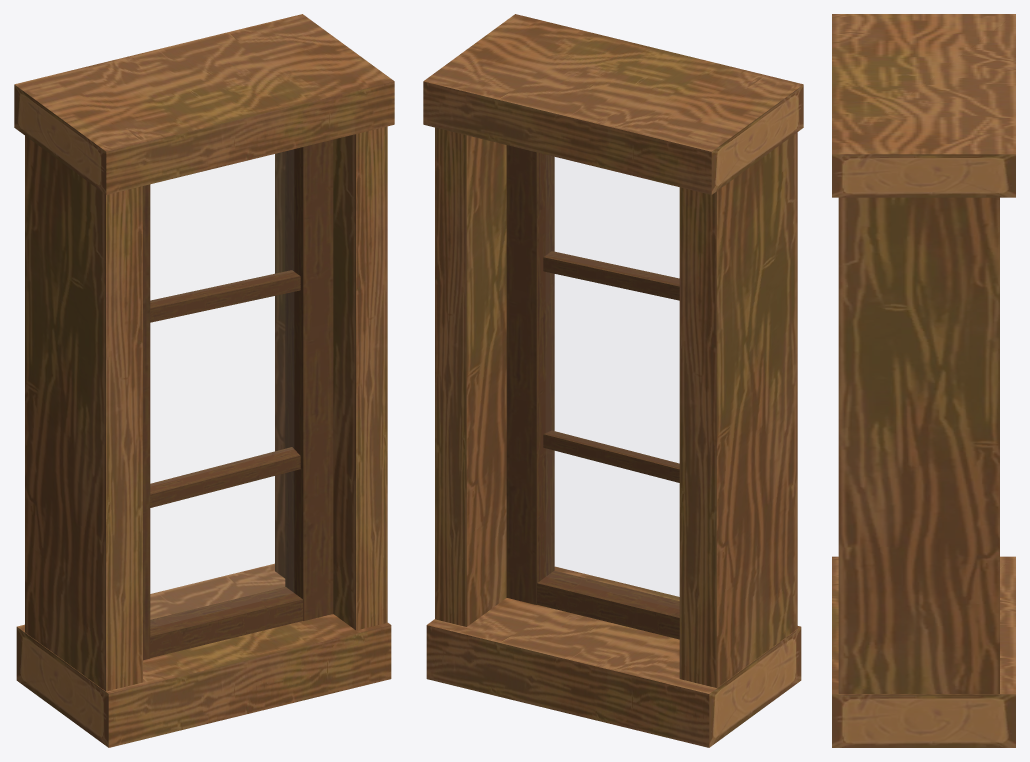
The model's file is Window_Thin_Flat1.gltf.
3 renders of one model, left to right at view 1: azimuth 30°, elevation 25°; view 2: azimuth 150°, elevation 25°; view 3: azimuth 270°, elevation 25°, orthographic.
Visible parts, largest first — view 1: Window_Thin_Flat1; view 2: Window_Thin_Flat1; view 3: Window_Thin_Flat1.
Boxes of the visible parts, <box> form: Window_Thin_Flat1: <box>14,14,394,747</box>; Window_Thin_Flat1: <box>423,14,803,747</box>; Window_Thin_Flat1: <box>832,14,1015,747</box>.
Size of the model in its own units: 0.788 by 1.56 by 0.4357.
2 materials, 1 textured.
